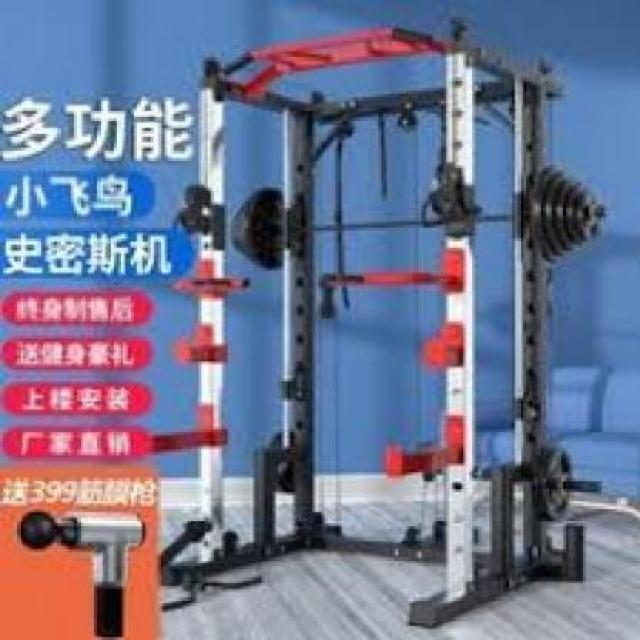smith machine: (203, 15, 603, 628)
